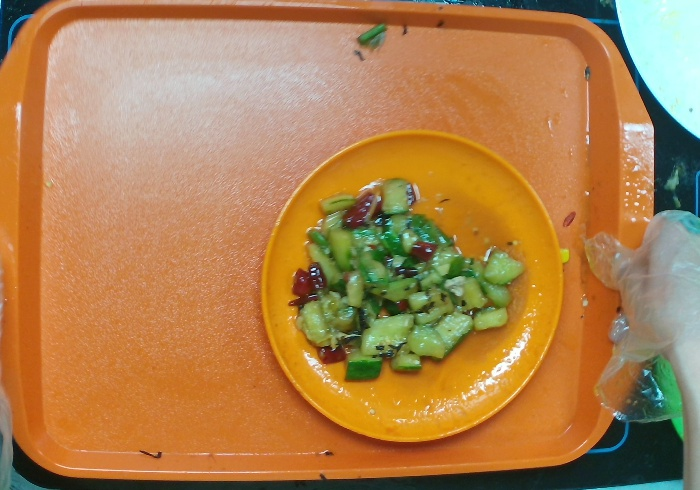HZYJPL-Ju_Huang_Yuan_Pan: (256, 124, 572, 445)
